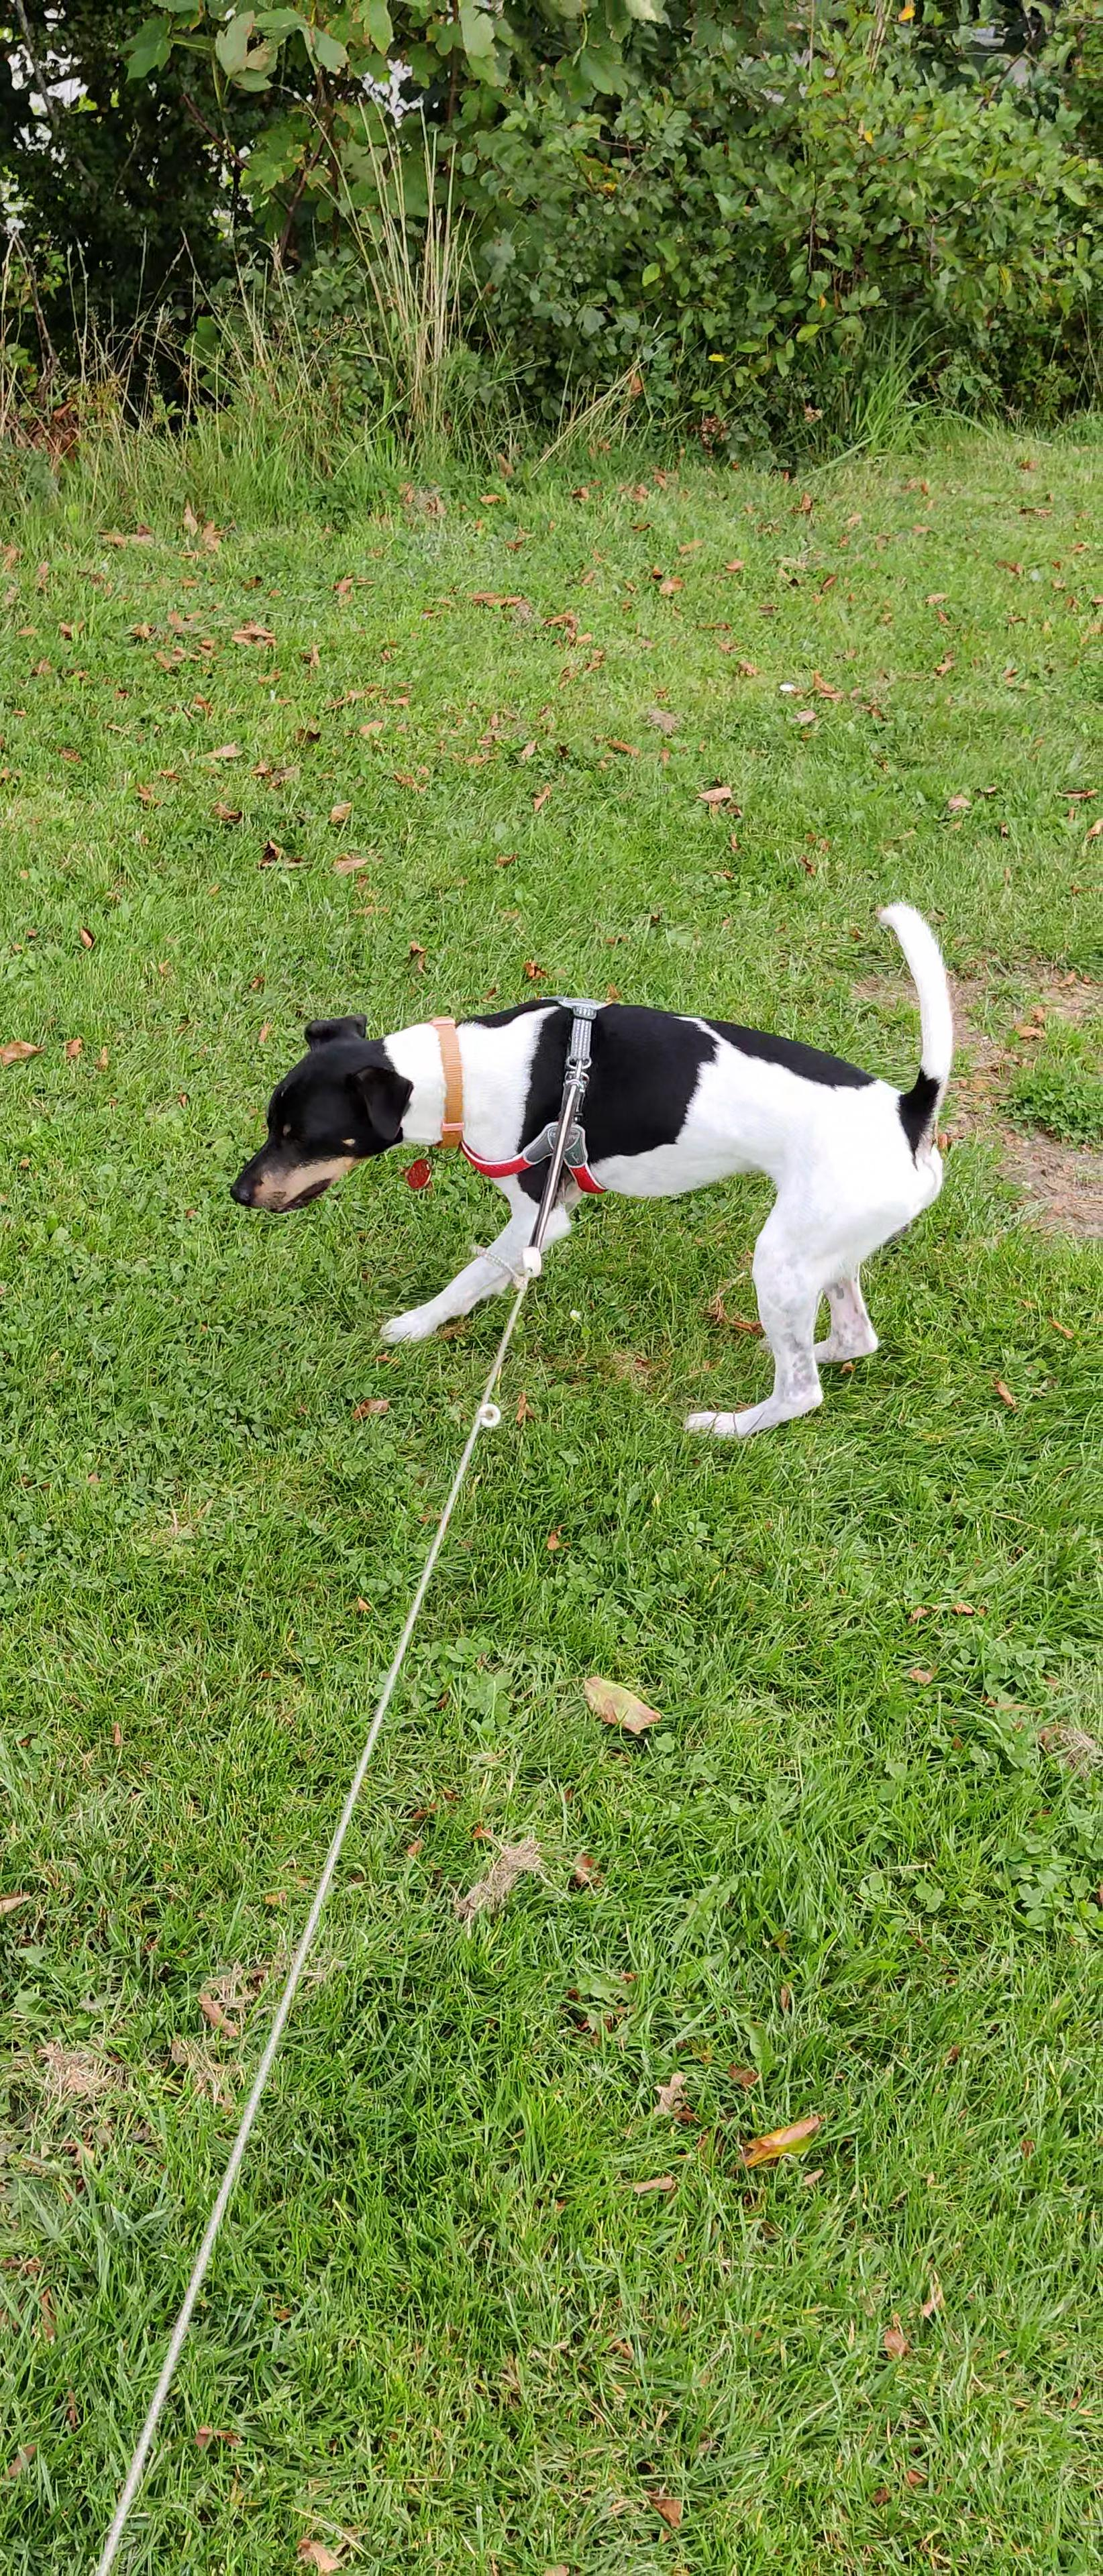Dog: (222, 892, 968, 1447)
